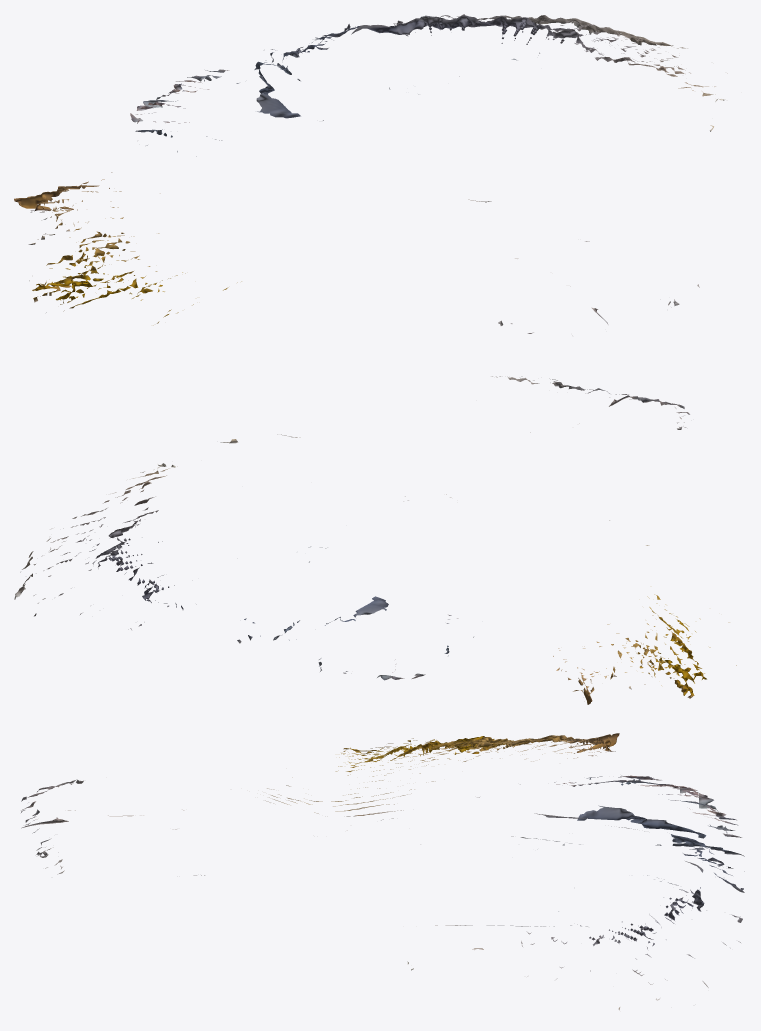
File: world-1769867893200.glb
3 renders of one model, top to bottom at view 1: azimuth 30°, elevation 25°; view 2: azimuth 150°, elevation 25°; view 3: azimuth 270°, elevation 25°, orthographic. The views are drawn at different scales.
Visible parts, largest first — view 1: world; view 2: world; view 3: world.
Boxes of the visible parts, x1=… form: world: x1=14, y1=14, x2=727, y2=335; world: x1=14, y1=376, x2=736, y2=704; world: x1=21, y1=733, x2=744, y2=1010.
Size of the model in its own units: 148 by 17.72 by 141.
